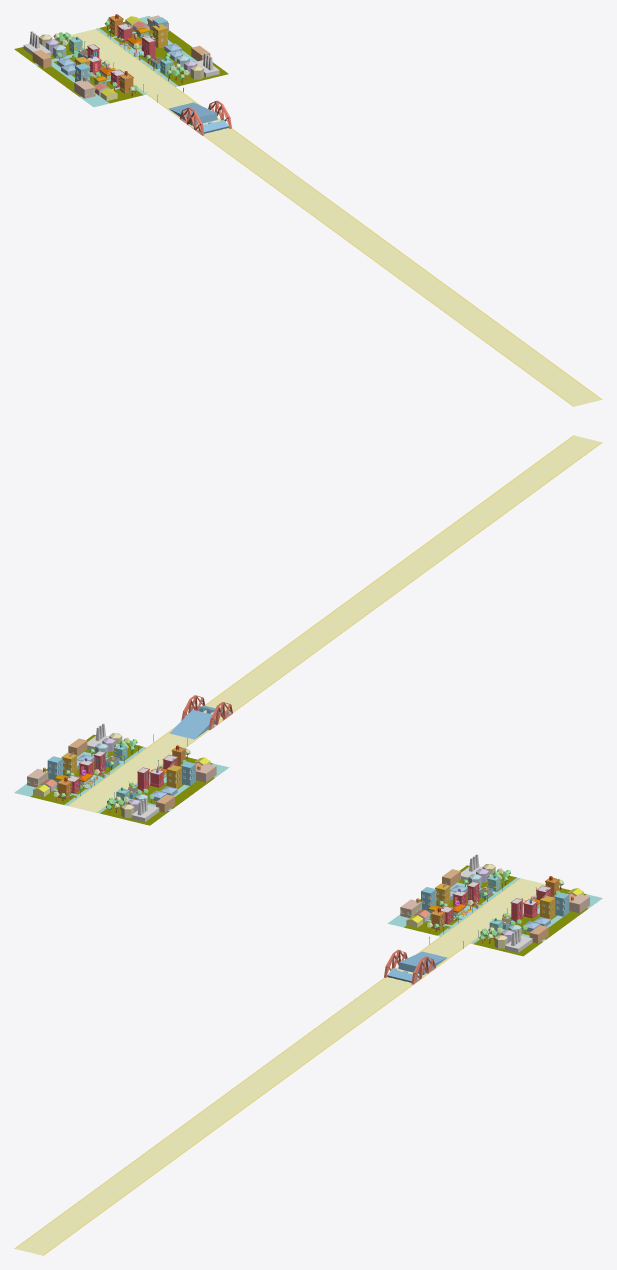
The model's file is city_pre_6.glb.
The picture shows the model from 3 angles, top to bottom: view 1: azimuth 30°, elevation 25°; view 2: azimuth 150°, elevation 25°; view 3: azimuth 330°, elevation 25°; orthographic projection.
Parts seen in each view (by area): view 1: ground road.001, ground road.002, ground road.003, ground road.004, ground, ground.001, bridge.016; view 2: ground road.001, ground road.002, ground road.003, ground road.004, ground.001, ground, bridge.016; view 3: ground road.001, ground road.002, ground road.003, ground road.004, ground, ground.001.
Boxes of the visible parts, box(x1,y1,x2,y2) form: ground road.001: box(447, 307, 602, 406); ground road.002: box(320, 214, 475, 313); ground road.003: box(193, 128, 348, 221); ground road.004: box(70, 29, 220, 128); ground: box(96, 16, 228, 86); ground.001: box(14, 39, 146, 107); bridge.016: box(169, 102, 217, 125); ground road.001: box(447, 435, 602, 535); ground road.002: box(320, 528, 475, 627); ground road.003: box(203, 620, 348, 720); ground road.004: box(67, 719, 222, 812); ground.001: box(97, 757, 229, 825); ground: box(14, 734, 146, 805); bridge.016: box(169, 710, 216, 739); ground road.001: box(14, 1156, 169, 1255); ground road.002: box(141, 1063, 296, 1162); ground road.003: box(267, 977, 423, 1070); ground road.004: box(396, 878, 545, 977); ground: box(470, 887, 602, 956); ground.001: box(388, 865, 519, 936).
Size of the model in its own units: 31.94 by 4.96 by 207.
Materials: 41 (22 with a texture image).
